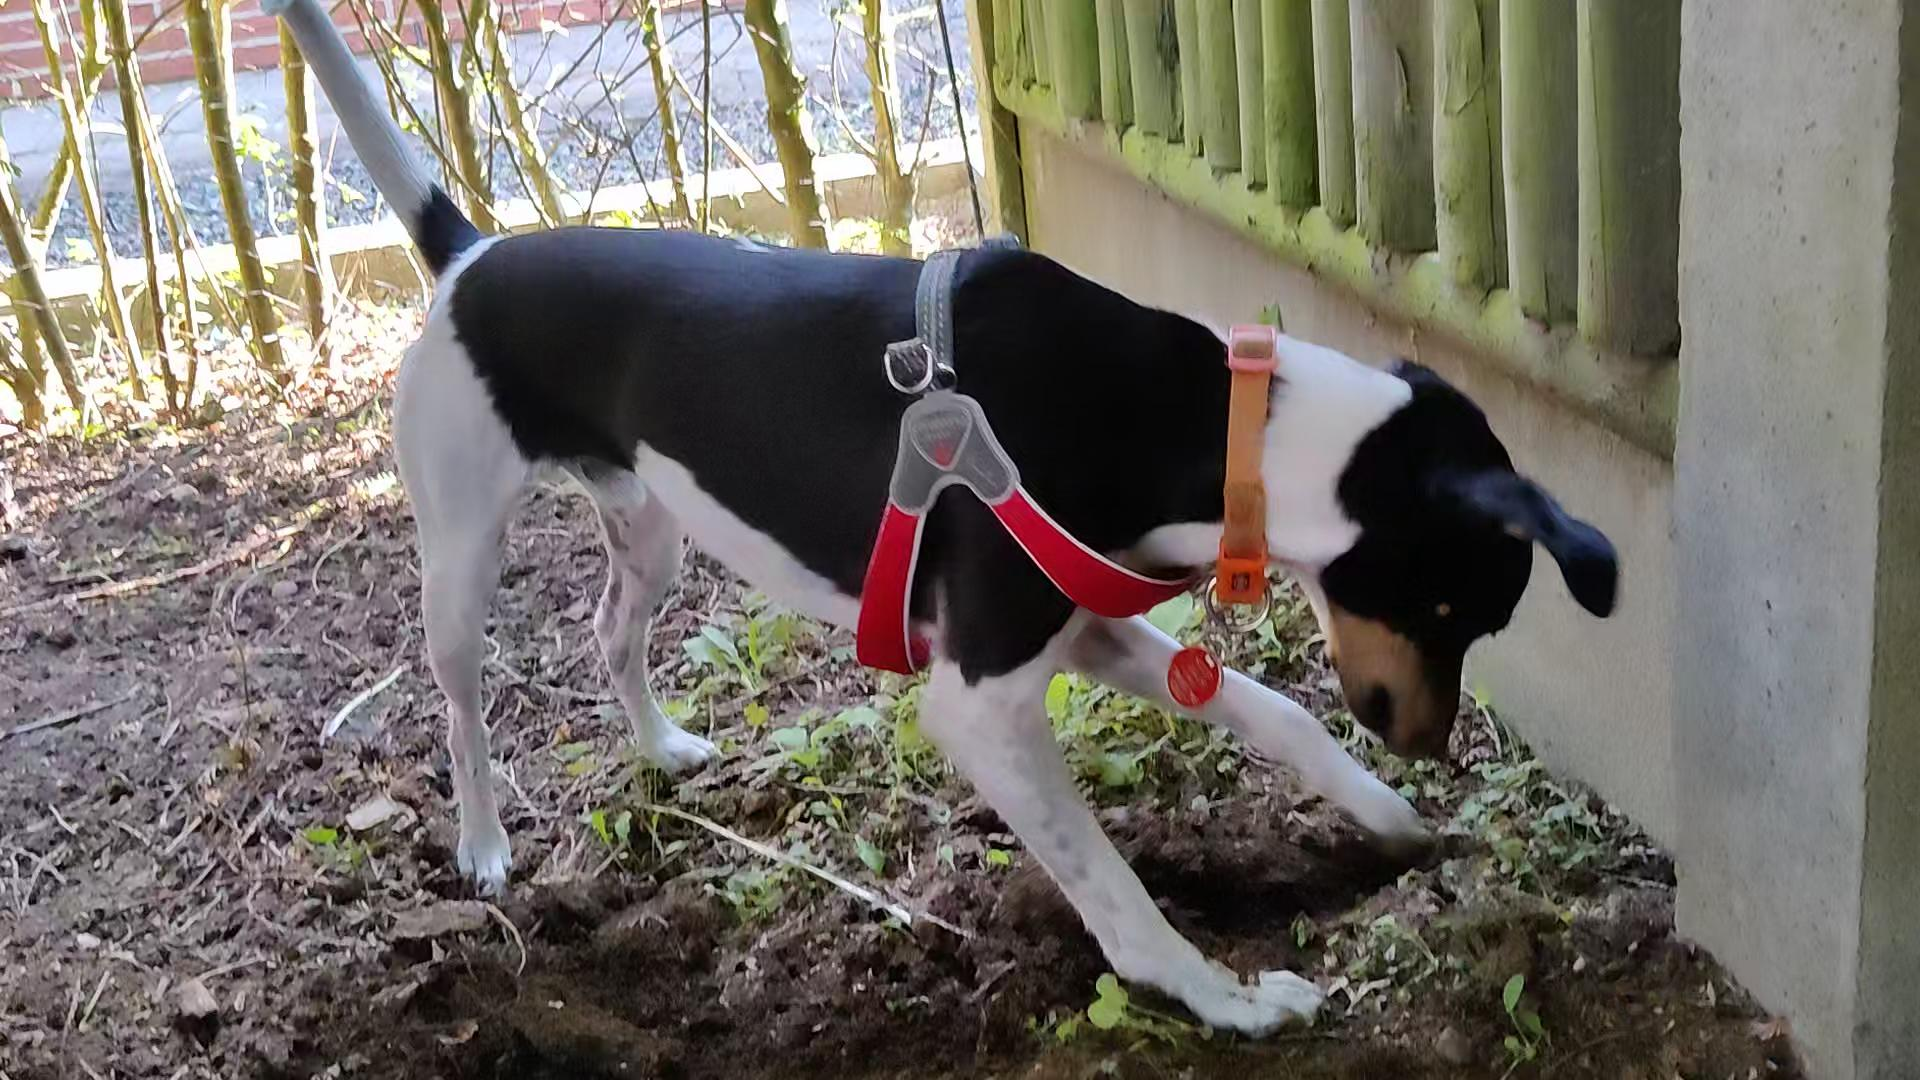Dog: (232, 0, 1659, 1043)
